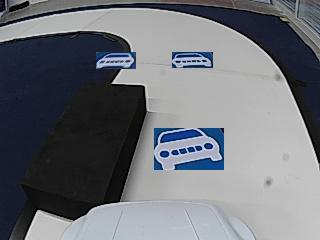block: (25, 83, 145, 211)
